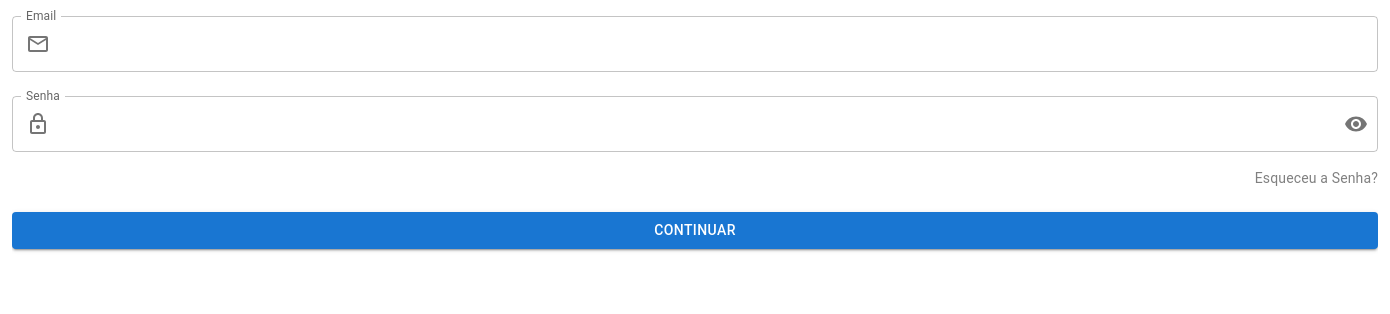
Test: LoginForm › shows errors when fields are empty
Click the button "CONTINUAR": (695,230) [12, 212, 1378, 248]
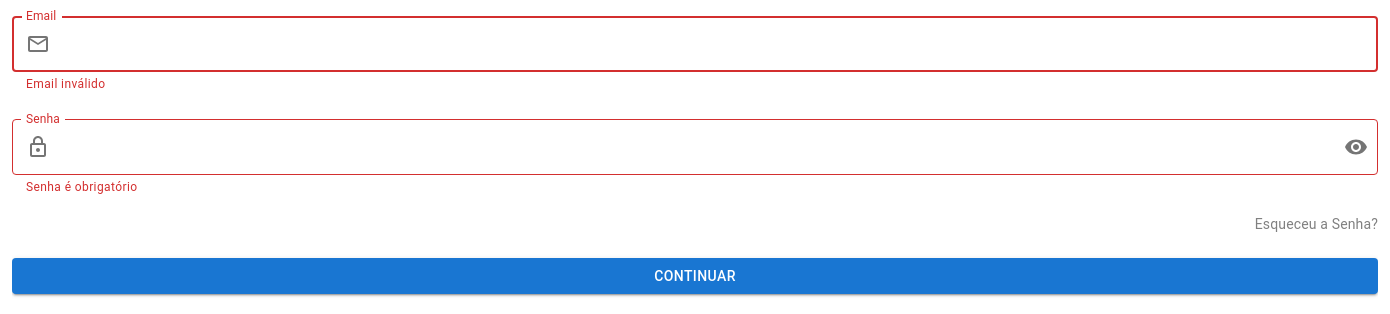
Expected: the text "Email inválido" is shown, [26, 77, 106, 91]
Expected: the text "Senha é obrigatório" is shown, [26, 180, 138, 194]
